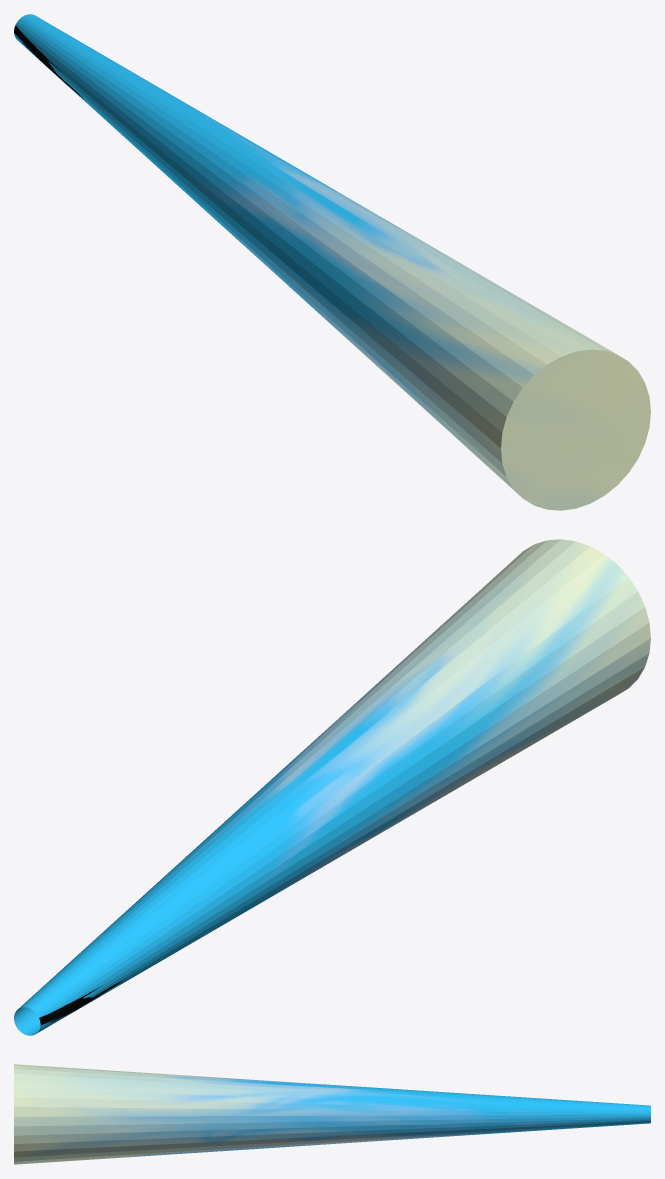
The model's file is Jet.fbx.
3 renders of one model, top to bottom at view 1: azimuth 30°, elevation 25°; view 2: azimuth 150°, elevation 25°; view 3: azimuth 270°, elevation 25°, orthographic. The views are drawn at different scales.
Parts seen in each view (by area): view 1: 円柱; view 2: 円柱; view 3: 円柱.
Part boxes in pixels (x1,y1,x2,y2): 円柱: (14,14,650,510); 円柱: (14,539,650,1035); 円柱: (14,1064,650,1164).
Bounding box in the file's own units: 0.4785 × 0.4785 × 3.03.
